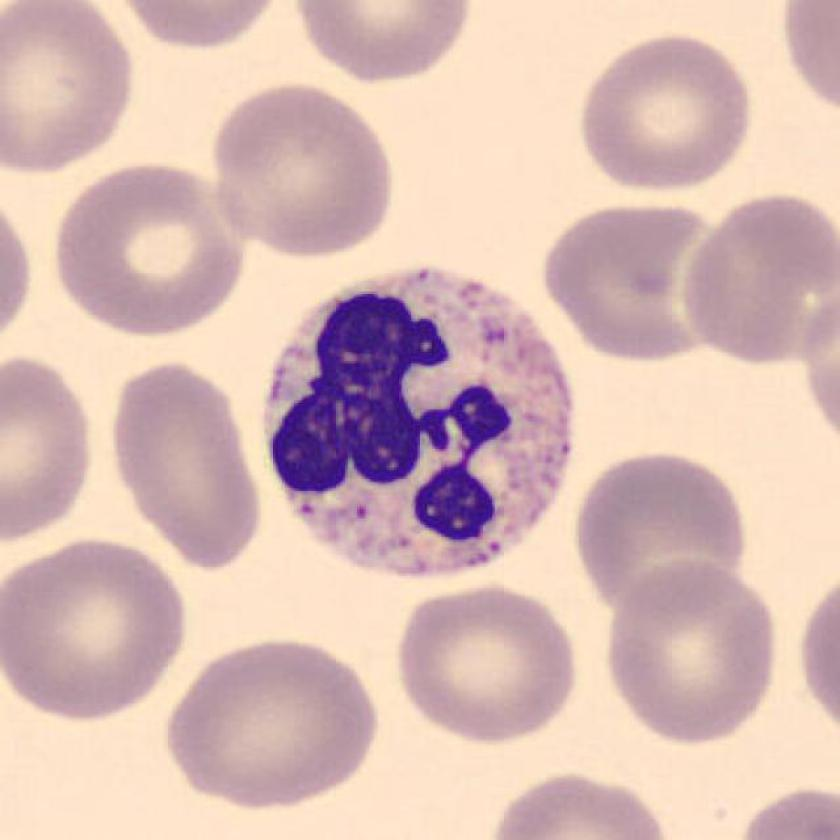neutrophil: (264, 268, 574, 574)
